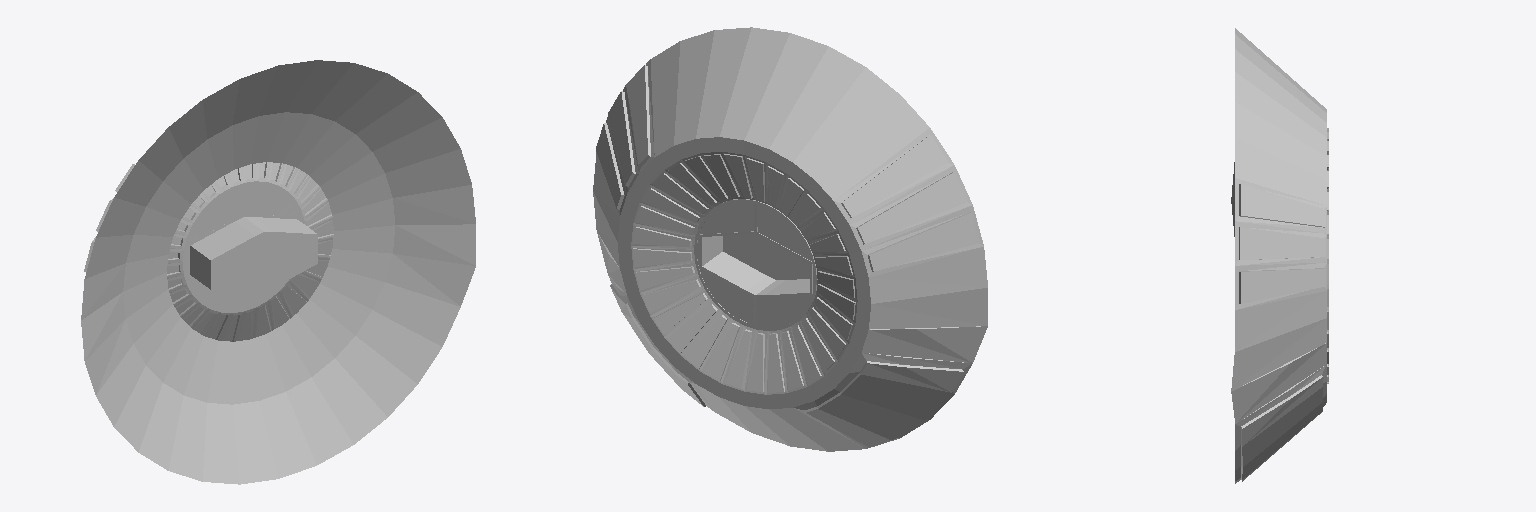
File: TieFighterEngine.obj
The picture shows the model from 3 angles: view 1: azimuth 30°, elevation 25°; view 2: azimuth 150°, elevation 25°; view 3: azimuth 270°, elevation 25°; orthographic projection.
Parts seen in each view (by area): view 1: Sphere.001; view 2: Sphere.001; view 3: Sphere.001.
Boxes of the visible parts, x1=… form: Sphere.001: x1=81, y1=60, x2=475, y2=484; Sphere.001: x1=593, y1=27, x2=987, y2=451; Sphere.001: x1=1231, y1=28, x2=1328, y2=483.
Size of the model in its own units: 0.9538 by 0.9538 by 0.2039.